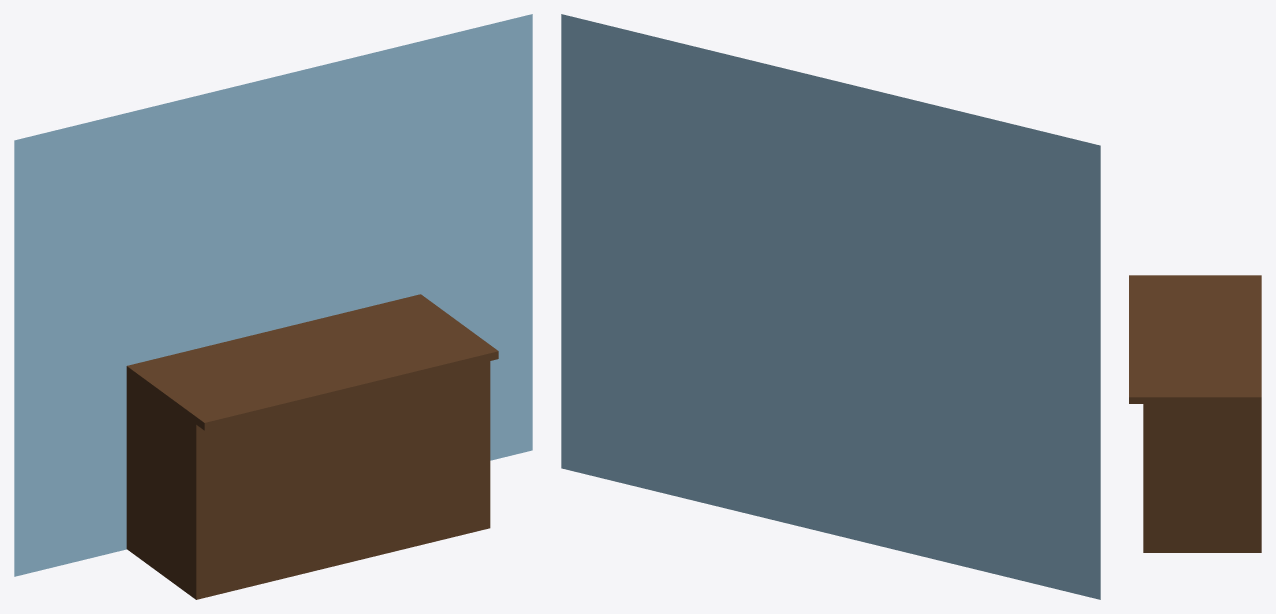
Rendered from env.glb.
The picture shows the model from 3 angles, left to right: view 1: azimuth 30°, elevation 25°; view 2: azimuth 150°, elevation 25°; view 3: azimuth 270°, elevation 25°; orthographic projection. The views are drawn at different scales.
Visible parts, largest first — view 1: Plane, Cube; view 2: Plane; view 3: Cube.
Boxes of the visible parts, x1,y1,x2,y2 form: Plane: (14, 14, 532, 576); Cube: (126, 294, 498, 599); Plane: (561, 14, 1100, 599); Cube: (1129, 275, 1261, 552).
Bounding box in the file's own units: 7.68 × 6.18 × 2.01.
